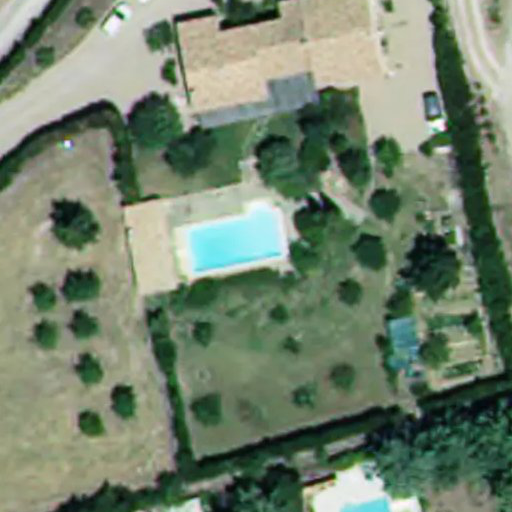pool: (208, 221, 303, 262)
